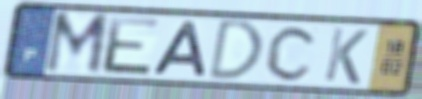A: (150, 19, 210, 79)
C: (263, 24, 321, 84)
D: (205, 17, 266, 82)
E: (101, 14, 163, 78)
K: (321, 25, 372, 87)
M: (41, 11, 112, 78)
